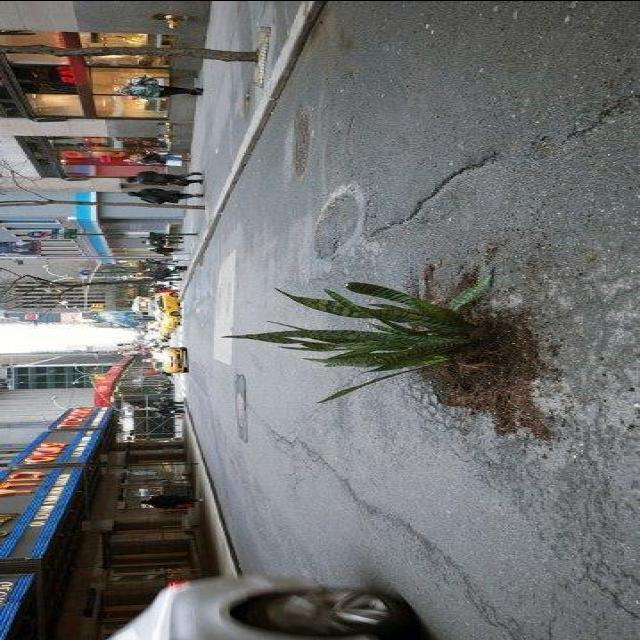jalan retak: (433, 428, 640, 640), (548, 245, 640, 566), (378, 506, 534, 640), (248, 414, 372, 532), (368, 147, 510, 244), (520, 85, 640, 169), (397, 372, 483, 467)
lubang: (402, 288, 544, 426), (294, 186, 372, 262), (286, 100, 322, 176), (223, 368, 253, 451)
